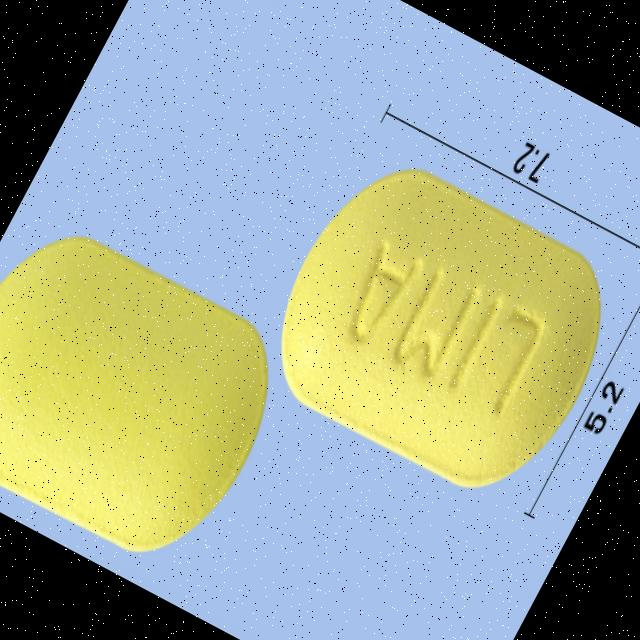Liamclo -250mg: (241, 137, 637, 516), (0, 208, 302, 581)
